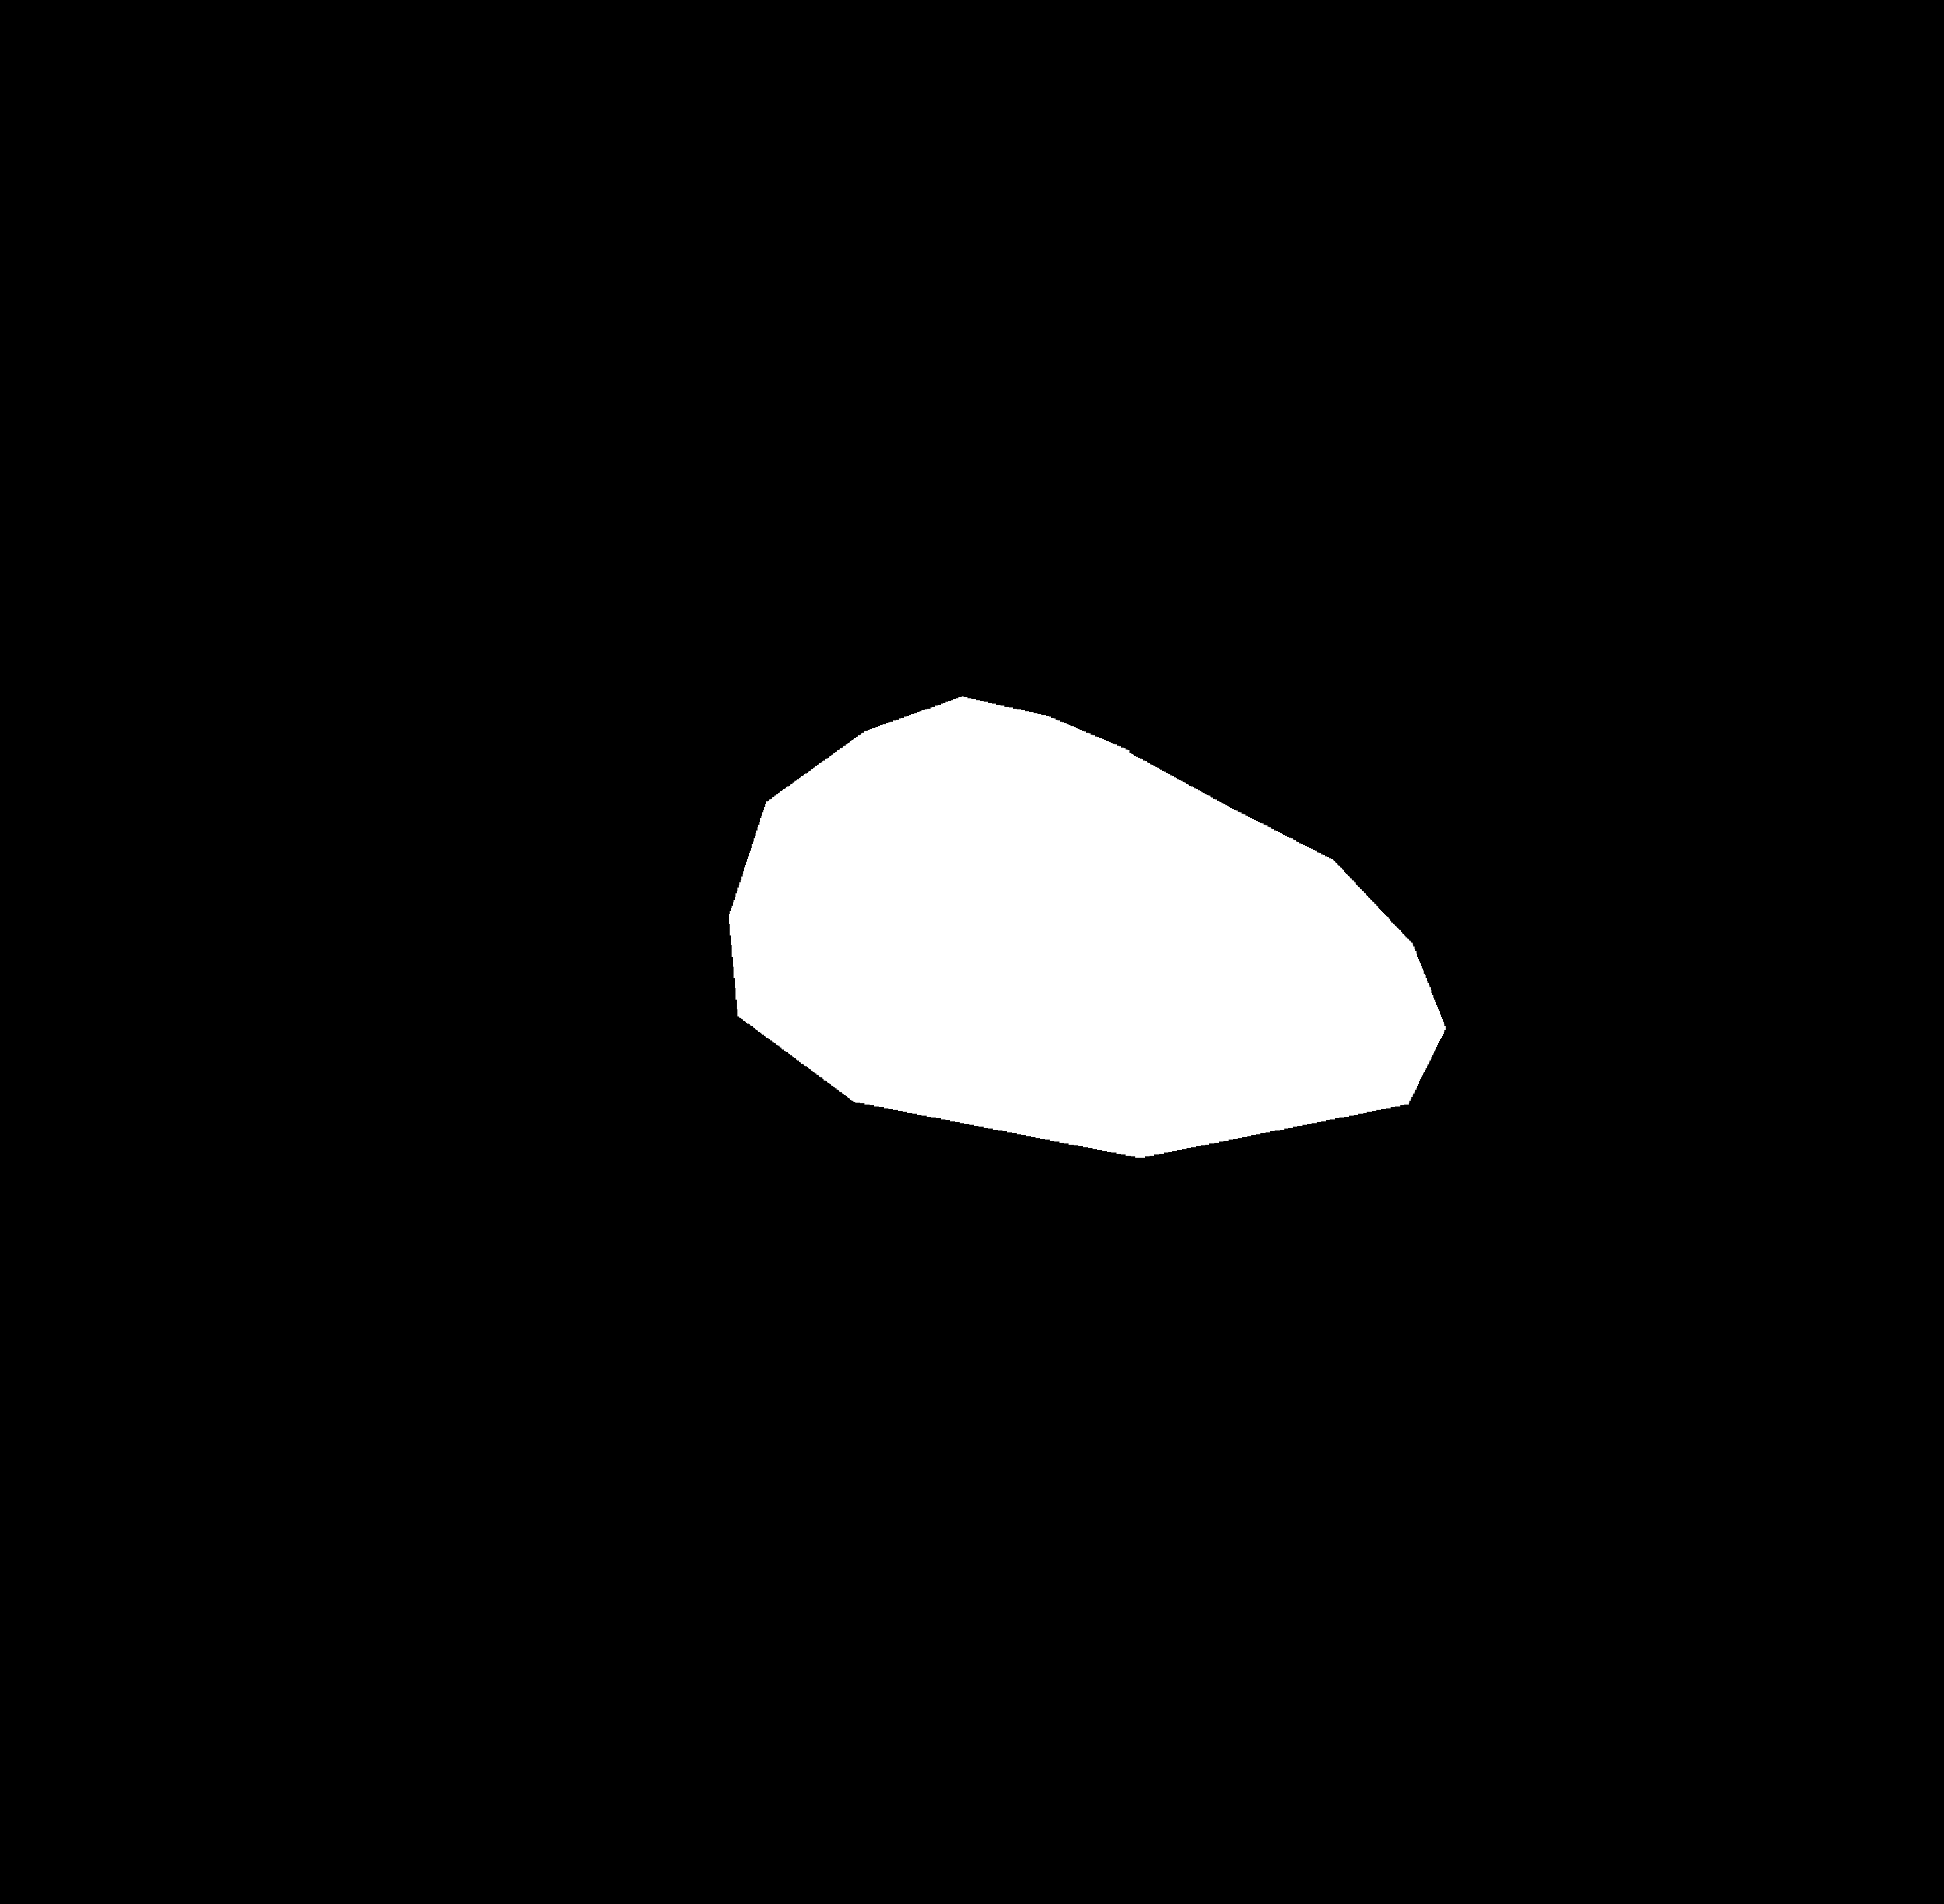heart: (631, 765, 1459, 1266)
left_lung: (255, 277, 807, 1173)
right_lung: (980, 258, 1583, 1165)
